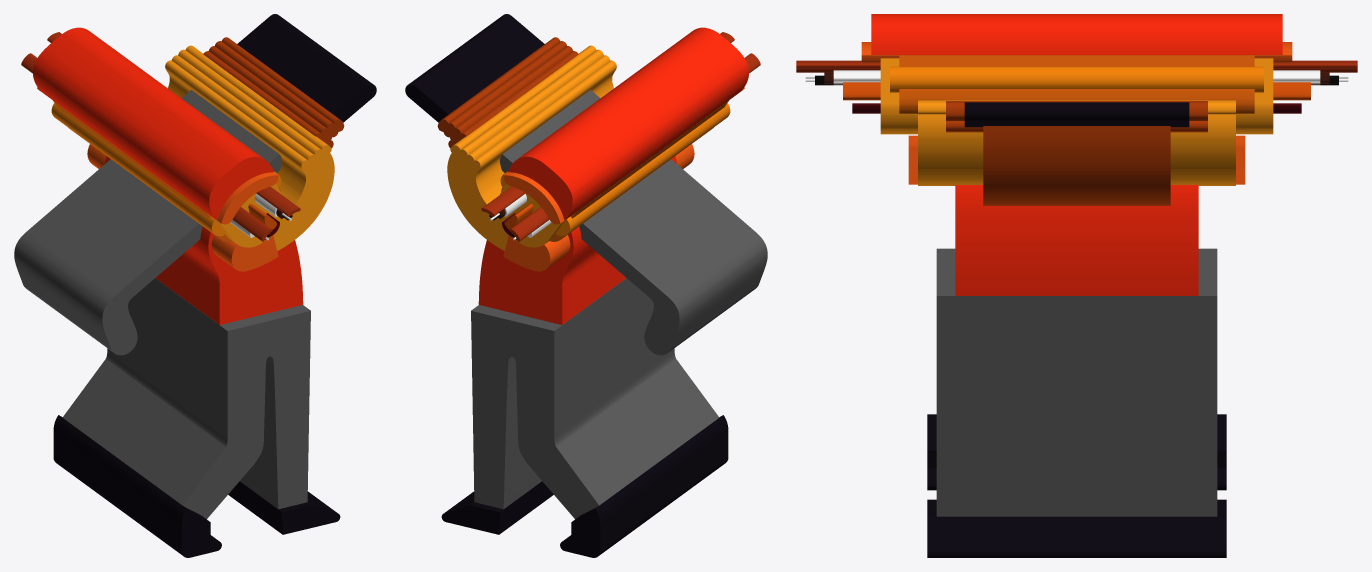
3 views of the same model, side by side, from view 1: azimuth 30°, elevation 25°; view 2: azimuth 150°, elevation 25°; view 3: azimuth 270°, elevation 25° (orthographic). The views are drawn at different scales.
Parts seen in each view (by area): view 1: U+1F3CC_layer05_obj00, U+1F3CC_layer01_obj00, U+1F3CC_layer12_obj00, U+1F3CC_layer06_obj00, U+1F3CC_layer07_obj00, U+1F3CC_layer03_obj00, U+1F3CC_layer02_obj00, U+1F3CC_layer04_obj00, U+1F3CC_layer10_obj00, U+1F3CC_layer08_obj00, U+1F3CC_layer20_obj00, U+1F3CC_layer13_obj00 (+2 smaller); view 2: U+1F3CC_layer05_obj00, U+1F3CC_layer01_obj00, U+1F3CC_layer12_obj00, U+1F3CC_layer06_obj00, U+1F3CC_layer07_obj00, U+1F3CC_layer03_obj00, U+1F3CC_layer02_obj00, U+1F3CC_layer04_obj00, U+1F3CC_layer10_obj00, U+1F3CC_layer08_obj00, U+1F3CC_layer20_obj00, U+1F3CC_layer13_obj00 (+2 smaller); view 3: U+1F3CC_layer05_obj00, U+1F3CC_layer03_obj00, U+1F3CC_layer12_obj00, U+1F3CC_layer00_obj00, U+1F3CC_layer06_obj00, U+1F3CC_layer07_obj00, U+1F3CC_layer09_obj00, U+1F3CC_layer10_obj00, U+1F3CC_layer02_obj00, U+1F3CC_layer11_obj00, U+1F3CC_layer20_obj00, U+1F3CC_layer04_obj00 (+4 smaller).
Part boxes in pixels (x1=…): U+1F3CC_layer05_obj00: x1=62, y1=278, x2=310, y2=519; U+1F3CC_layer01_obj00: x1=14, y1=90, x2=281, y2=355; U+1F3CC_layer12_obj00: x1=33, y1=27, x2=273, y2=220; U+1F3CC_layer06_obj00: x1=53, y1=415, x2=340, y2=557; U+1F3CC_layer07_obj00: x1=165, y1=45, x2=334, y2=250; U+1F3CC_layer03_obj00: x1=104, y1=156, x2=303, y2=324; U+1F3CC_layer02_obj00: x1=237, y1=14, x2=376, y2=122; U+1F3CC_layer04_obj00: x1=203, y1=37, x2=344, y2=148; U+1F3CC_layer10_obj00: x1=51, y1=103, x2=281, y2=236; U+1F3CC_layer08_obj00: x1=87, y1=144, x2=278, y2=271; U+1F3CC_layer20_obj00: x1=21, y1=32, x2=300, y2=241; U+1F3CC_layer13_obj00: x1=37, y1=87, x2=278, y2=224; U+1F3CC_layer05_obj00: x1=471, y1=278, x2=719, y2=519; U+1F3CC_layer01_obj00: x1=500, y1=90, x2=767, y2=355; U+1F3CC_layer12_obj00: x1=508, y1=27, x2=748, y2=220; U+1F3CC_layer06_obj00: x1=441, y1=415, x2=728, y2=557; U+1F3CC_layer07_obj00: x1=447, y1=45, x2=616, y2=250; U+1F3CC_layer03_obj00: x1=478, y1=156, x2=677, y2=324; U+1F3CC_layer02_obj00: x1=405, y1=14, x2=544, y2=122; U+1F3CC_layer04_obj00: x1=437, y1=37, x2=578, y2=148; U+1F3CC_layer10_obj00: x1=500, y1=103, x2=730, y2=236; U+1F3CC_layer08_obj00: x1=503, y1=144, x2=694, y2=271; U+1F3CC_layer20_obj00: x1=481, y1=32, x2=760, y2=241; U+1F3CC_layer13_obj00: x1=503, y1=87, x2=744, y2=224; U+1F3CC_layer05_obj00: x1=936, y1=248, x2=1217, y2=516; U+1F3CC_layer03_obj00: x1=955, y1=185, x2=1198, y2=295; U+1F3CC_layer12_obj00: x1=871, y1=14, x2=1282, y2=54; U+1F3CC_layer00_obj00: x1=983, y1=126, x2=1170, y2=205; U+1F3CC_layer06_obj00: x1=927, y1=414, x2=1226, y2=557; U+1F3CC_layer07_obj00: x1=918, y1=100, x2=1235, y2=185; U+1F3CC_layer09_obj00: x1=899, y1=55, x2=1254, y2=113; U+1F3CC_layer10_obj00: x1=890, y1=66, x2=1263, y2=92; U+1F3CC_layer02_obj00: x1=964, y1=102, x2=1189, y2=127; U+1F3CC_layer11_obj00: x1=880, y1=58, x2=1273, y2=134; U+1F3CC_layer20_obj00: x1=796, y1=60, x2=1357, y2=72; U+1F3CC_layer04_obj00: x1=946, y1=101, x2=1207, y2=132.
Bounding box in the file's own units: 0.3895 × 0.5694 × 0.6.
